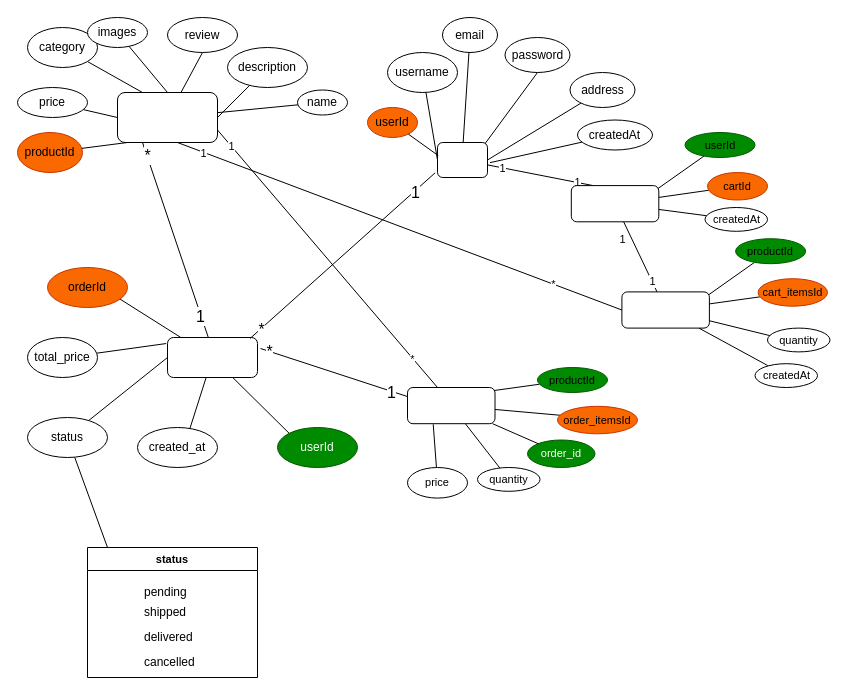
This 848x695 diagram has some shape labels left out. The centre of each missing label's shape, as x and y in pixels:
"Cart" belongs at (x=614, y=203).
"Cart_Items" belongs at (x=665, y=309).
"Order" belongs at (x=212, y=357).
"Order_Items" belongs at (x=450, y=405).
"Product" belongs at (x=167, y=117).
"User" belongs at (x=462, y=160).
